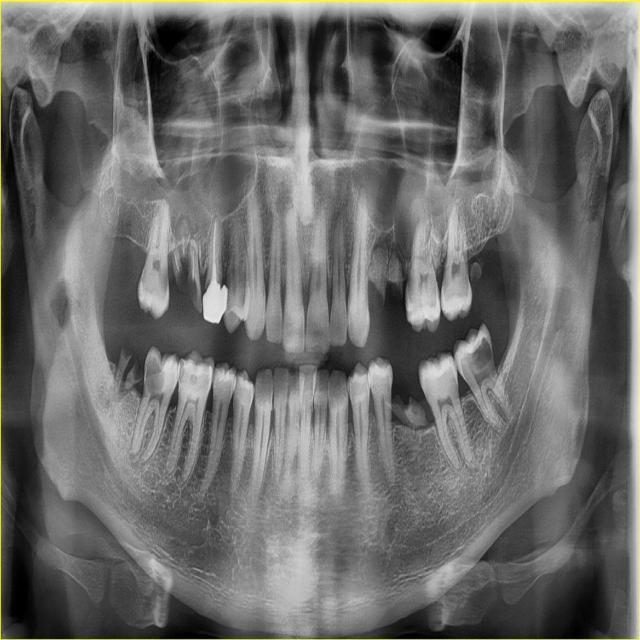Caries: (142, 351, 164, 398), (469, 330, 492, 370), (159, 264, 169, 296), (177, 361, 188, 389), (187, 371, 199, 386), (138, 271, 146, 288)
Crown: (202, 279, 227, 323)
Periapical lesion: (131, 449, 151, 475), (176, 216, 194, 238), (126, 438, 142, 460), (463, 455, 480, 475), (210, 215, 223, 229), (452, 464, 463, 471)
Root Canal Treatment: (212, 221, 217, 282)
Root Piece: (171, 217, 202, 305), (389, 394, 428, 431), (367, 247, 387, 310), (385, 253, 406, 298), (113, 348, 133, 395), (125, 360, 141, 390), (469, 256, 483, 283)
